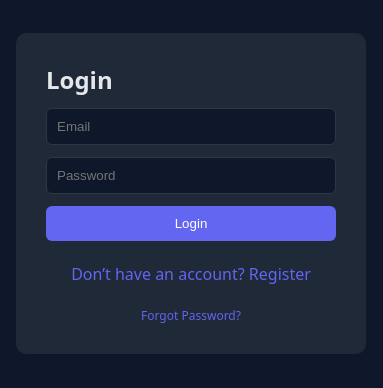
Login Component › Form Validation › should show error when password is empty
Type "test@example.com" into the field with placeholder "Email" at x=191, y=126, box [46,108,336,144]
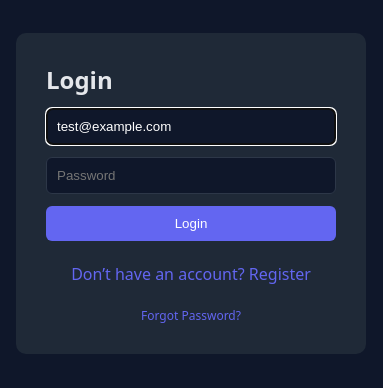
Click the button "Login" at x=191, y=223, box [46,206,336,240]
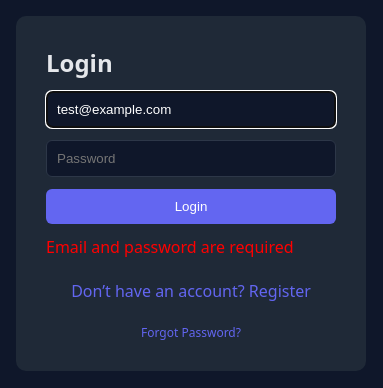
Expected: the text "Email and password are required" is shown, [46,236,336,258]
